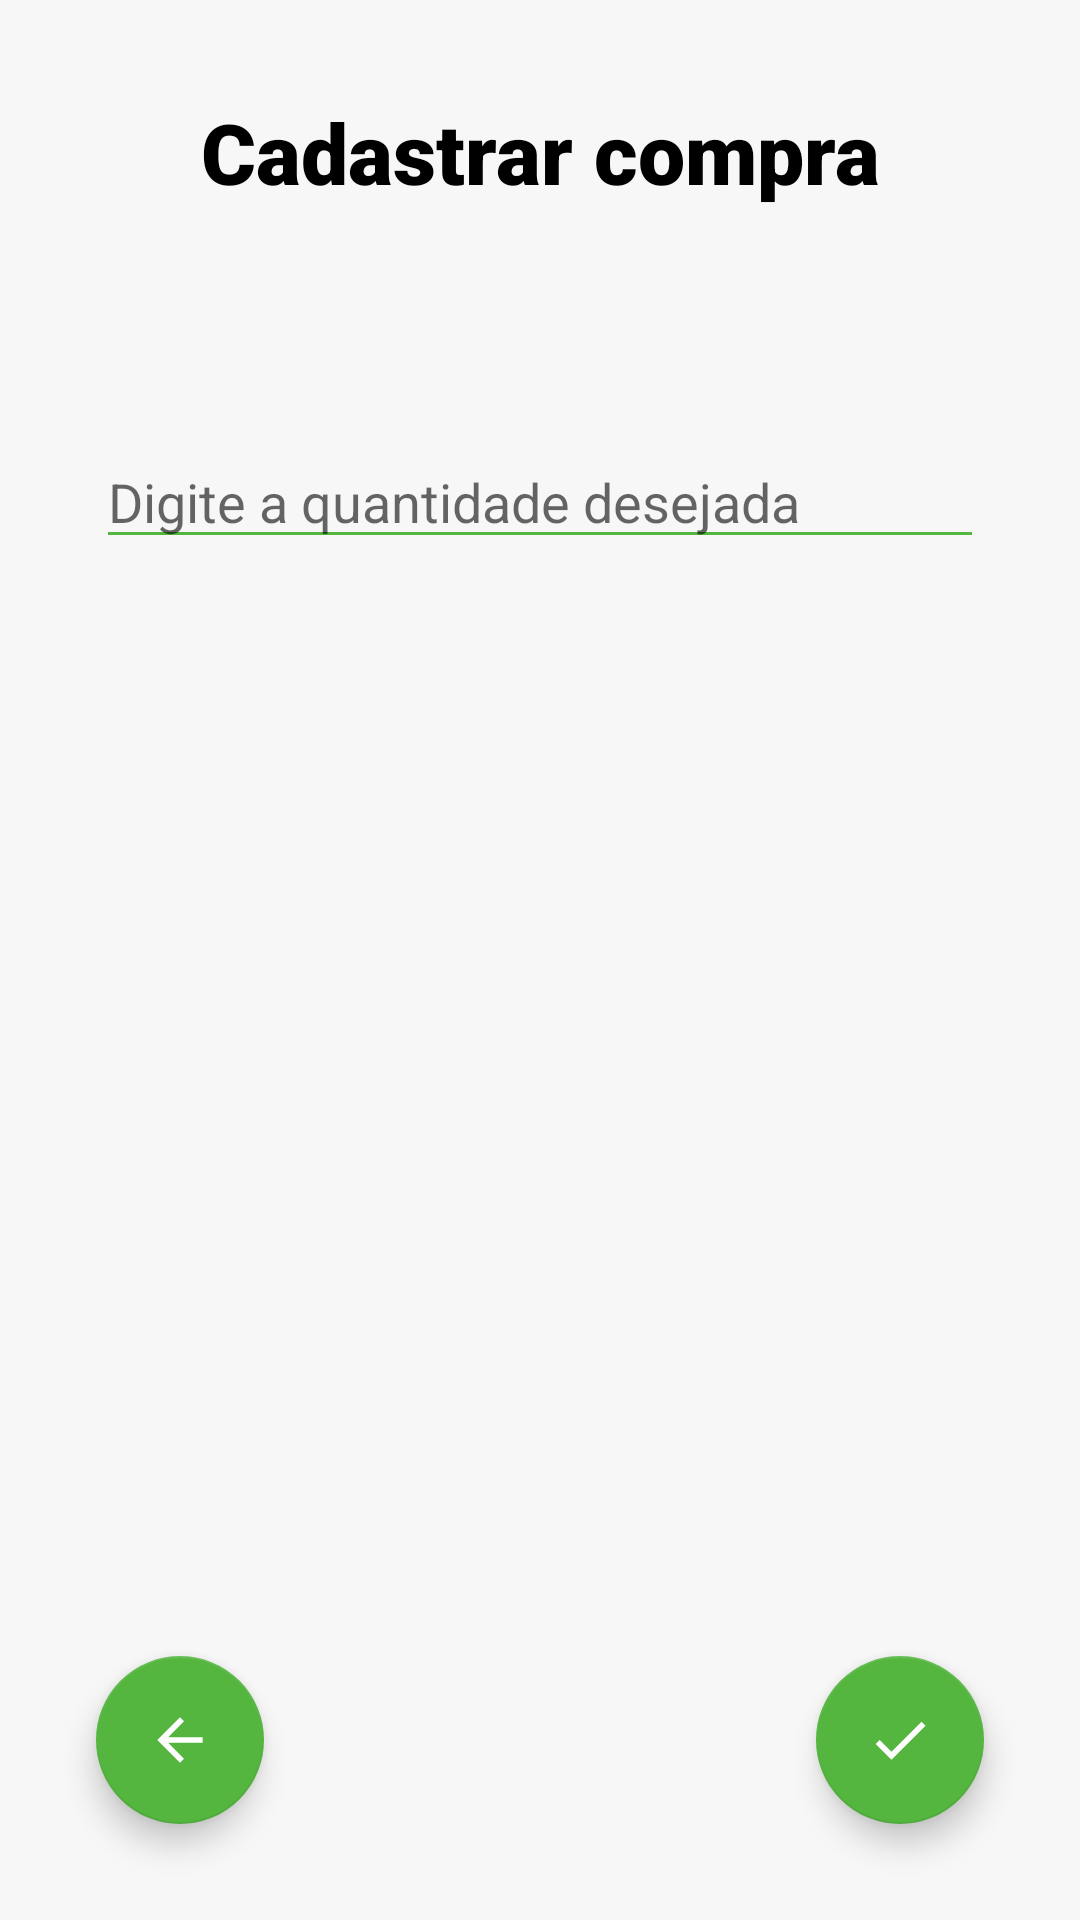

Named icons in this screenshot (1080 × 1920) and their bounding boxes, (x1, y1, x2, y2):
back: (96, 1656, 264, 1824)
check body: (816, 1656, 984, 1824)
